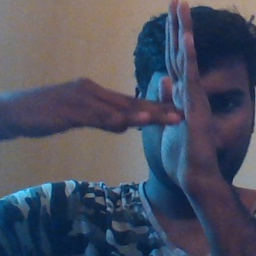Z: (96, 2, 211, 176)
